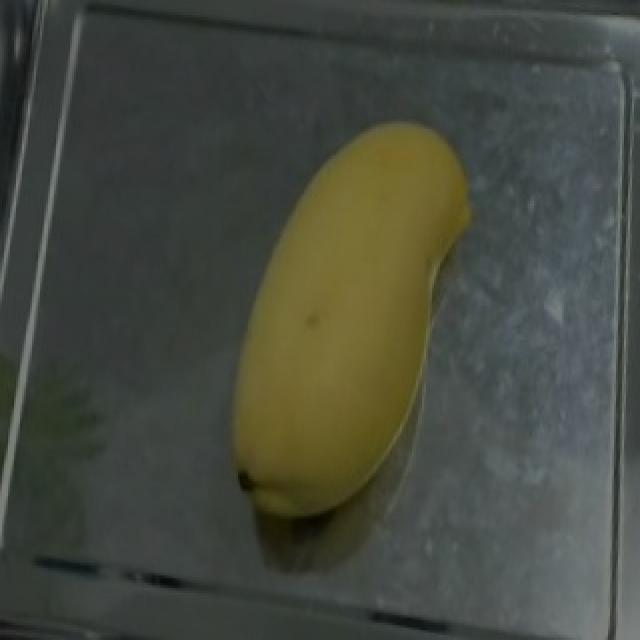fruit: (236, 107, 488, 459)
